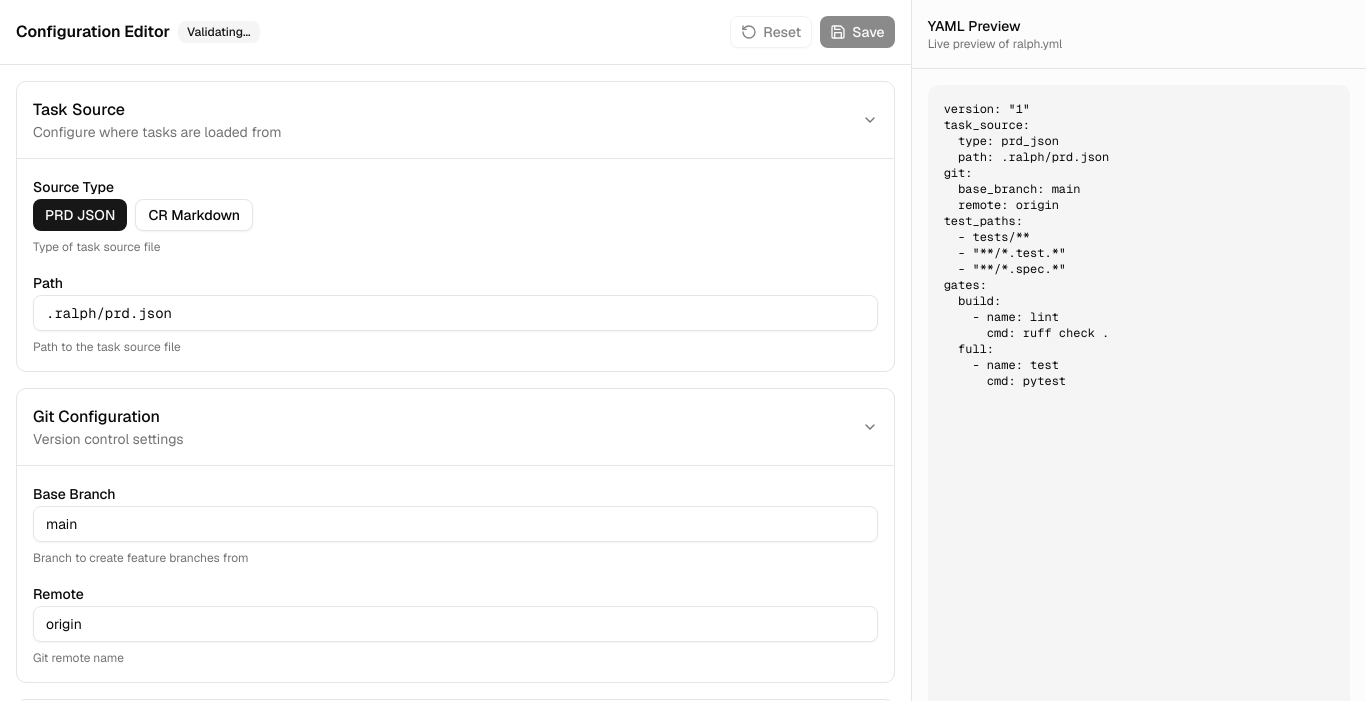
Test case: ConfigEditor › validation › displays validation errors when present
// Make a change to trigger validation
Type "bad branch" into the field showing "main" below "Base Branch".
click(455, 524); type("bad branch")  # box [33, 506, 878, 542]
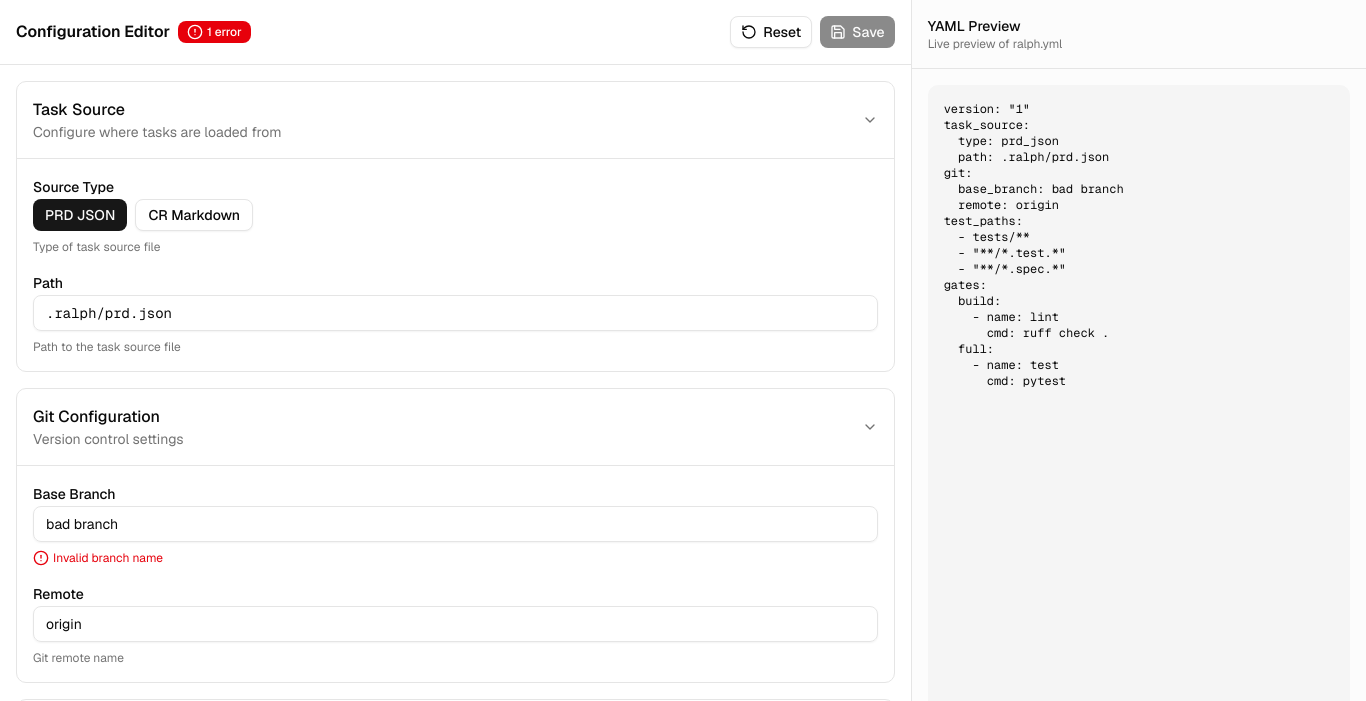
Check: the text "1 error" is shown, box [178, 21, 251, 43]
